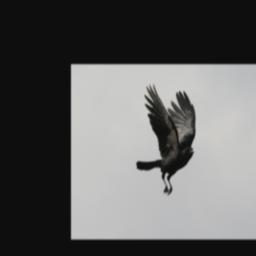Crow: (136, 83, 197, 198)
